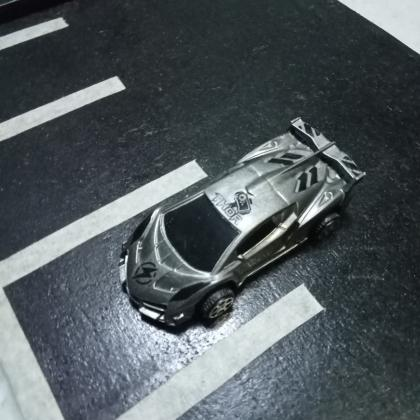Car: (119, 115, 368, 329)
